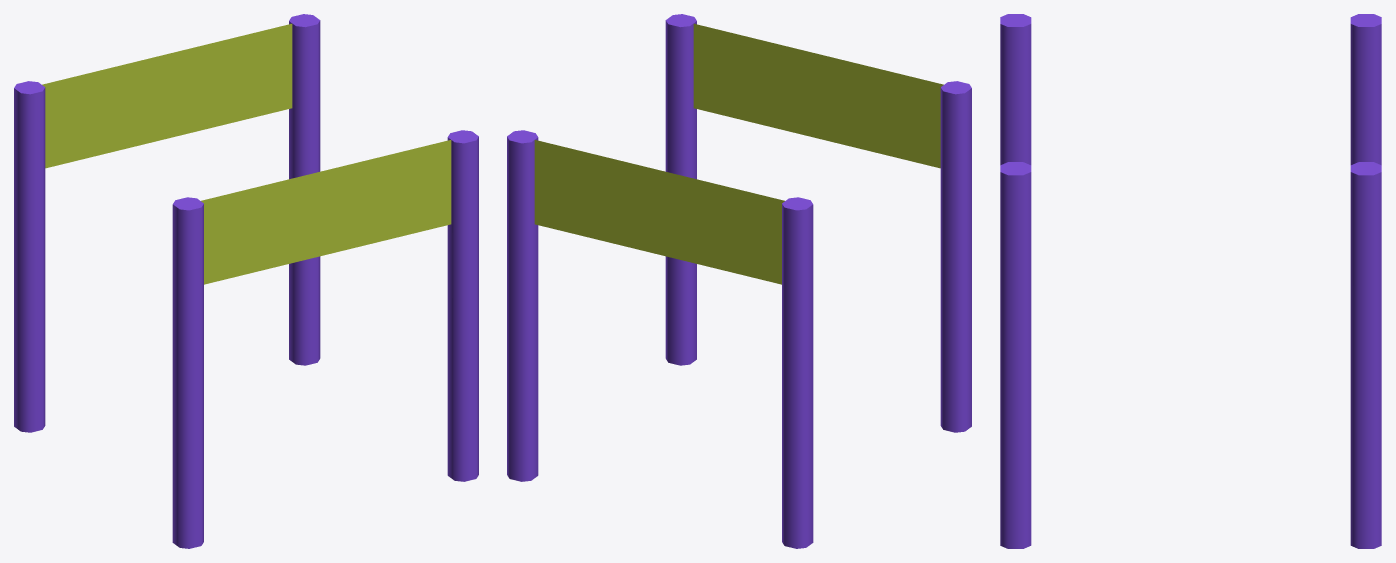
Rendered from banner_double_high.dae.
3 views of the same model, side by side, from view 1: azimuth 30°, elevation 25°; view 2: azimuth 150°, elevation 25°; view 3: azimuth 270°, elevation 25° (orthographic). The views are drawn at different scales.
Parts seen in each view (by area): view 1: banner_double_high; view 2: banner_double_high; view 3: banner_double_high.
Part boxes in pixels (<box>): banner_double_high: <box>14,14,478,548</box>; banner_double_high: <box>507,14,971,548</box>; banner_double_high: <box>1000,14,1381,548</box>.
Bounding box in the file's own units: 0.925 × 0.925 × 1.
